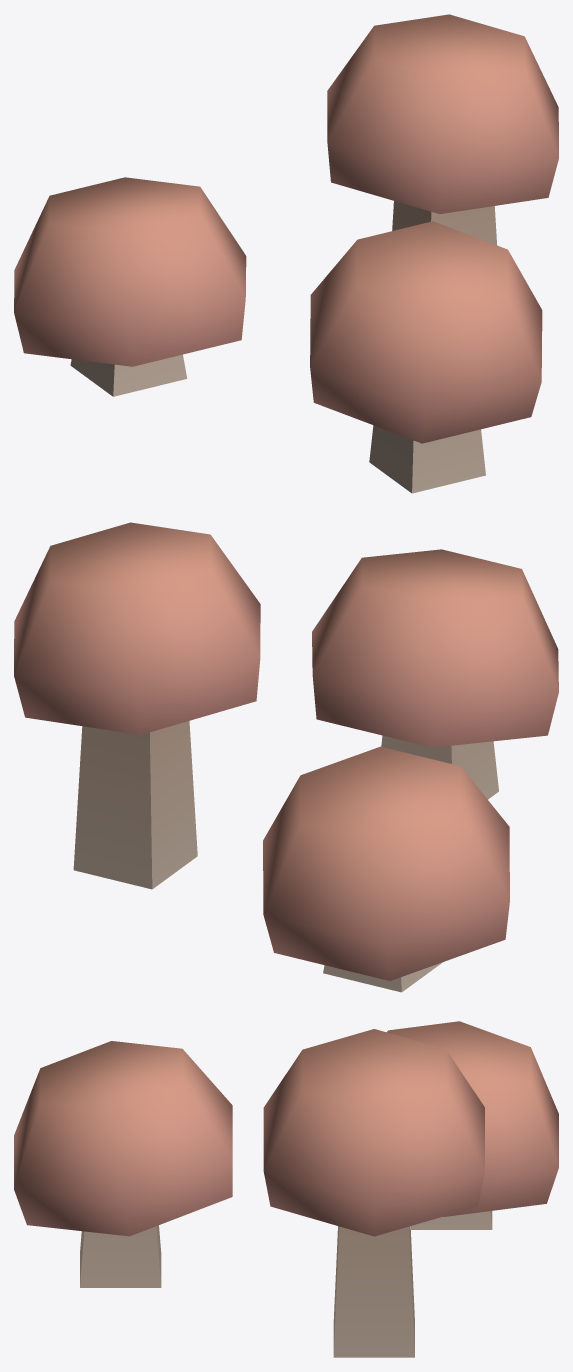
File: mushrooms.gltf
3 views of the same model, one above another, from view 1: azimuth 30°, elevation 25°; view 2: azimuth 150°, elevation 25°; view 3: azimuth 270°, elevation 25° (orthographic). The views are drawn at different scales.
Parts seen in each view (by area): view 1: mushrooms; view 2: mushrooms; view 3: mushrooms.
Boxes of the visible parts, box(x1,y1,x2,y2) form: mushrooms: box(14, 14, 558, 493); mushrooms: box(14, 522, 558, 992); mushrooms: box(14, 1021, 558, 1357).
Bounding box in the file's own units: 0.5222 × 0.2892 × 0.5119.
